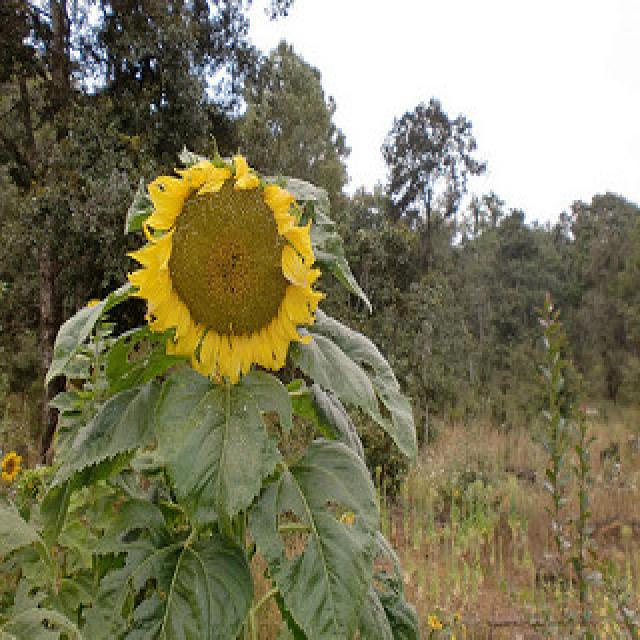sunflower: (139, 162, 326, 390)
